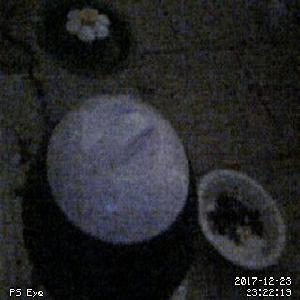fountain: (34, 1, 134, 79)
